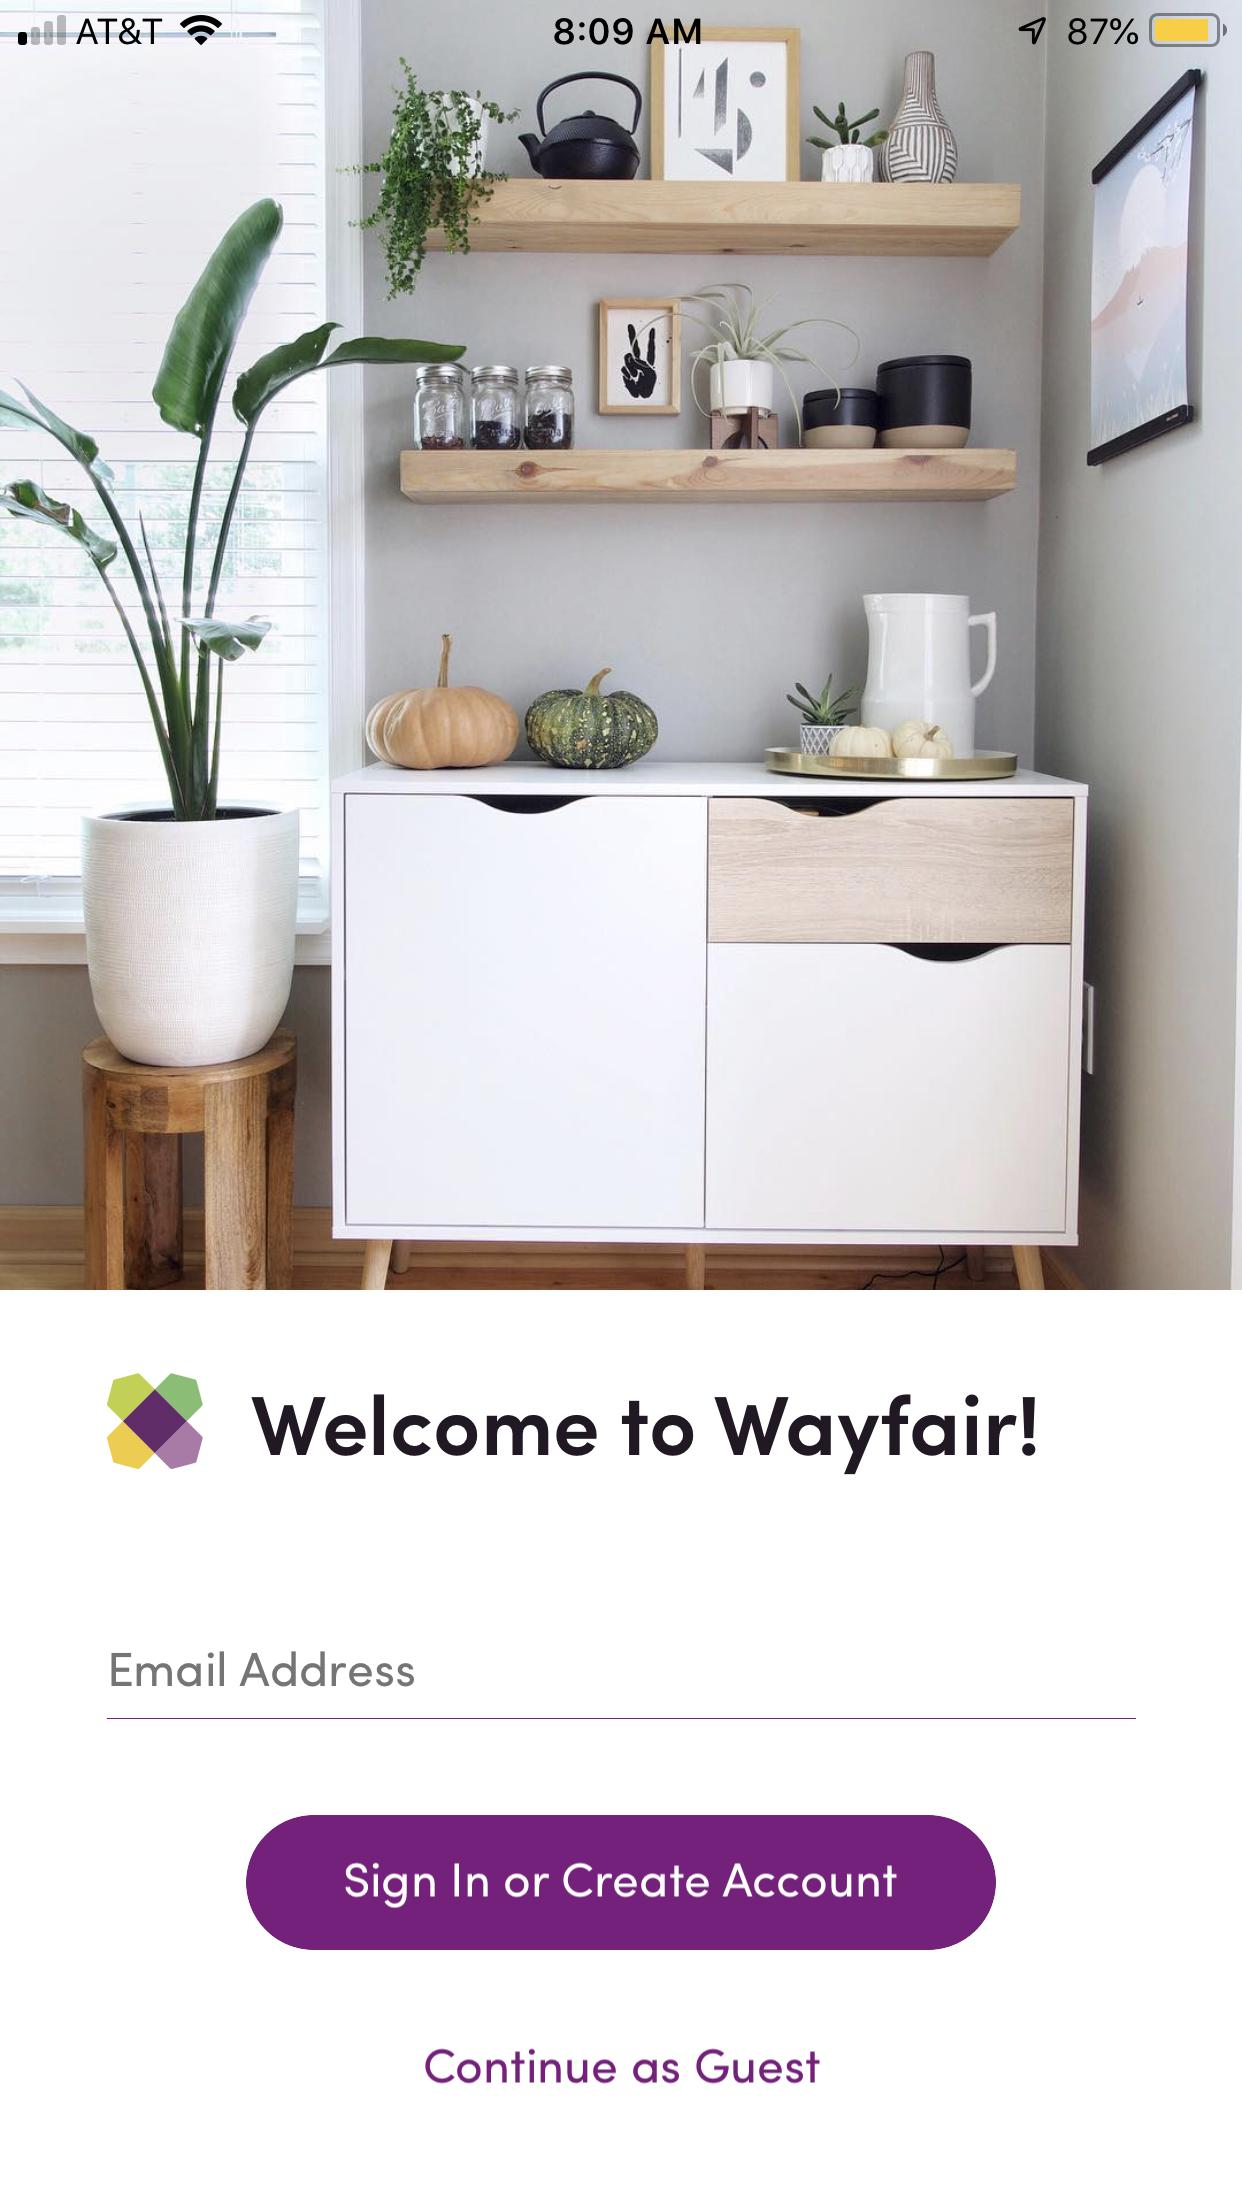EditText: (108, 1648, 1137, 1720)
Image: (2, 2, 1242, 1291), (102, 1372, 202, 1469)
Text: (246, 1389, 1037, 1476), (425, 2046, 822, 2085), (111, 1650, 416, 1689)
TextButton: (246, 1814, 996, 1952)
UpperTaskBar: (2, 2, 1242, 49)
